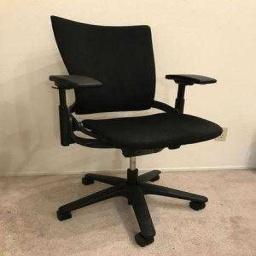Chair: (50, 15, 222, 246)
